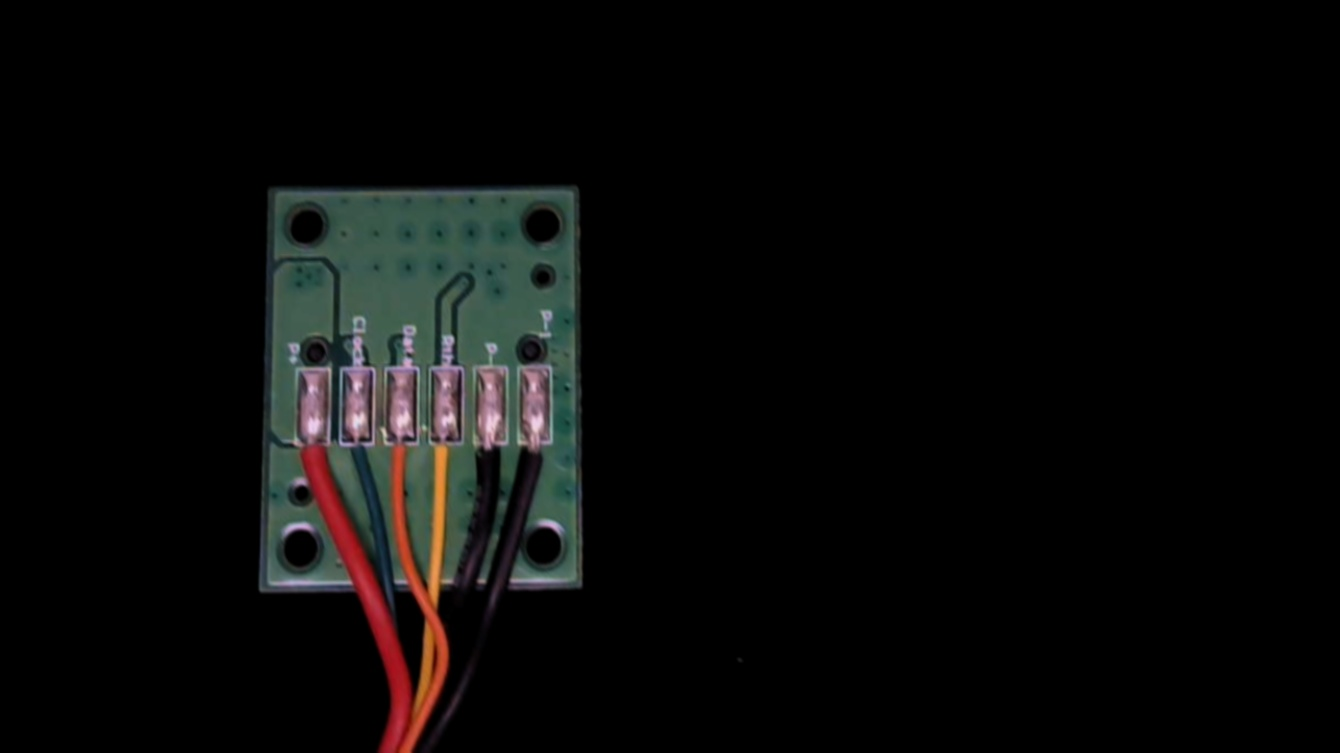Black: (470, 422, 503, 501)
Black1: (517, 423, 550, 498)
Green: (338, 424, 374, 498)
Orange: (380, 423, 418, 499)
Red: (295, 426, 328, 506)
Yellow: (425, 422, 460, 509)
